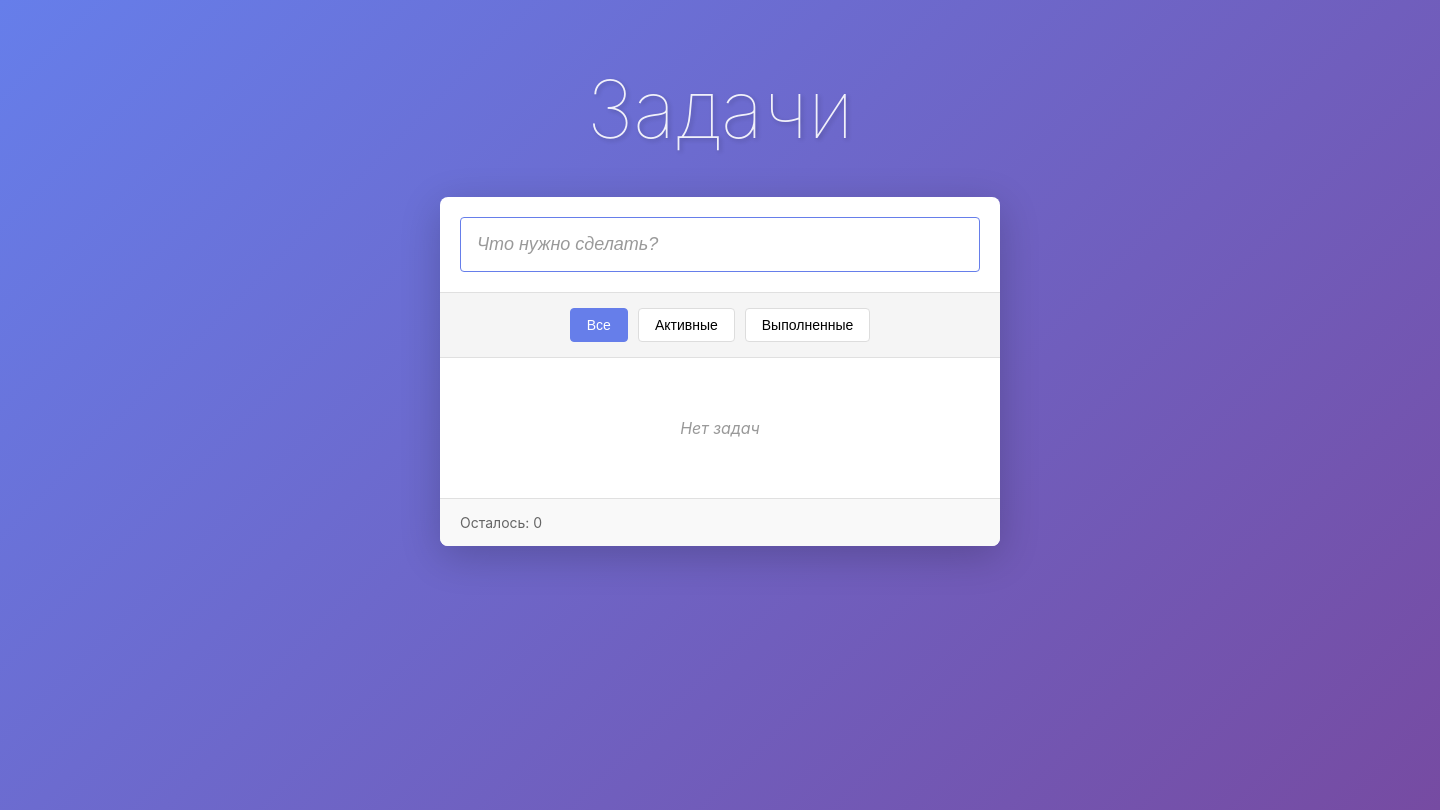
Test: Тесты приложения › фильтрует задачи по статусу
In the field with placeholder "Что нужно сделать?": x=720, y=244 [460,217,980,272], type "Активная задача"
Press Enter in the field with placeholder "Что нужно сделать?", box [460,217,980,272]
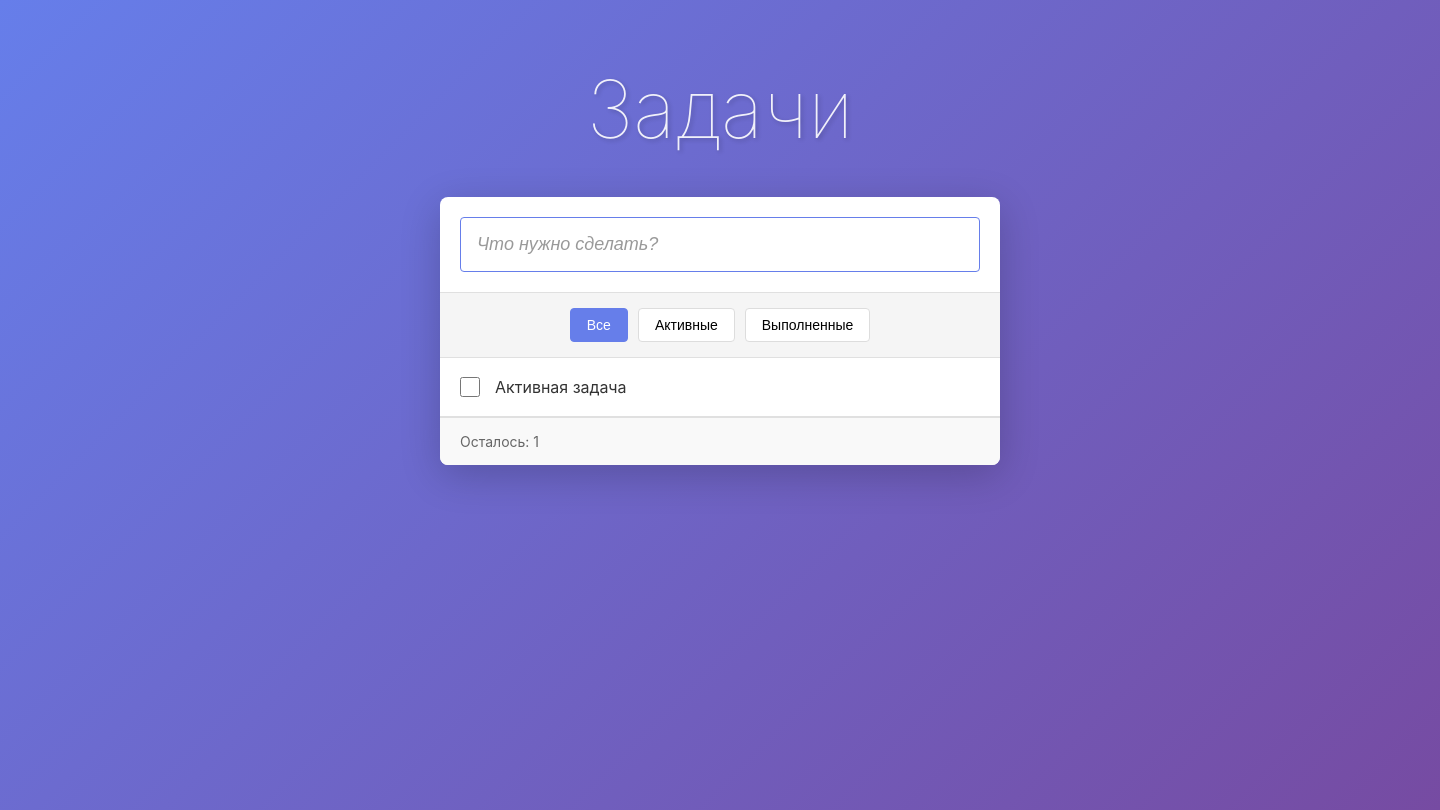
In the field with placeholder "Что нужно сделать?": x=720, y=244 [460,217,980,272], type "Выполненная задача"
Press Enter in the field with placeholder "Что нужно сделать?", box [460,217,980,272]
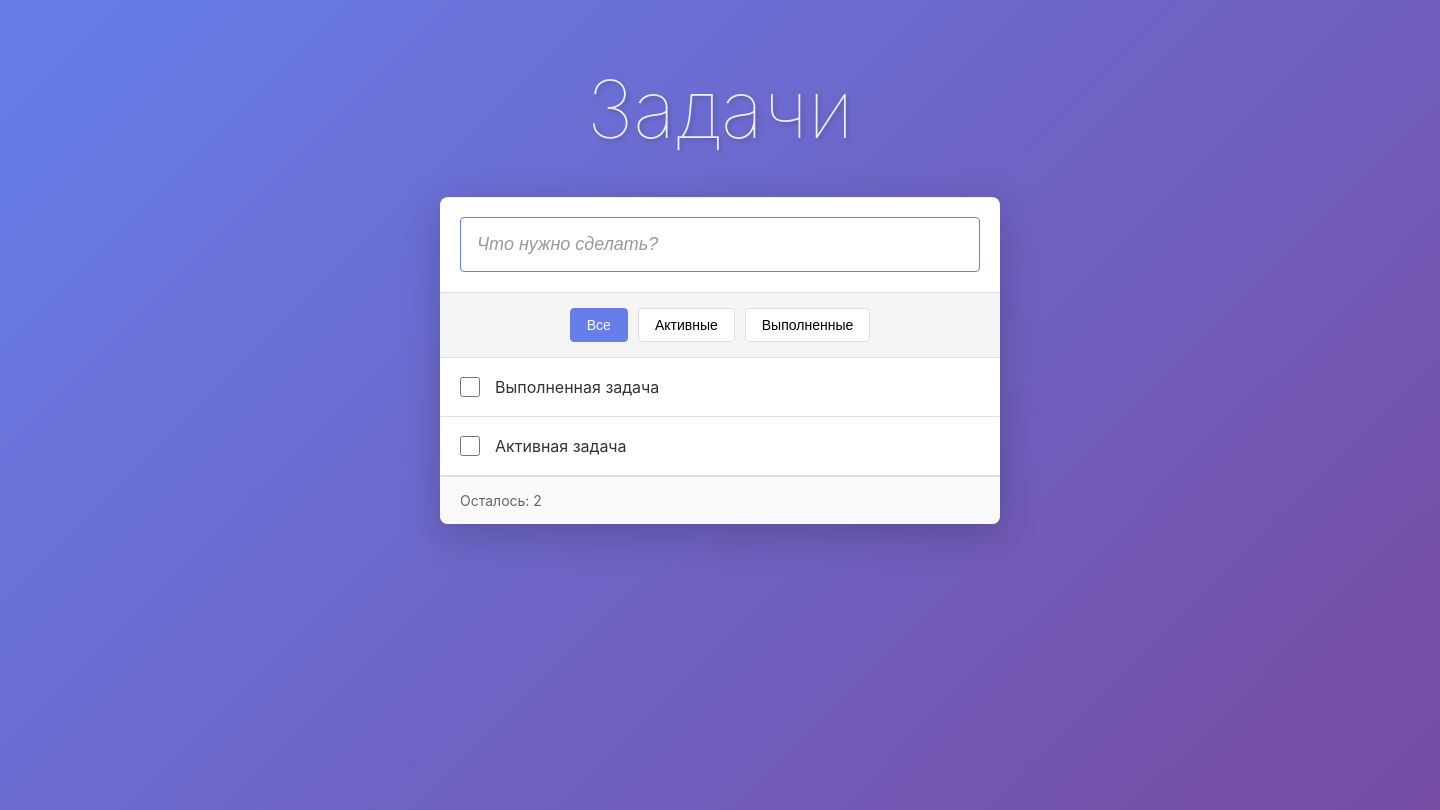
Click the checkbox next to "Выполненная задача": x=470, y=387 [460,377,480,397]
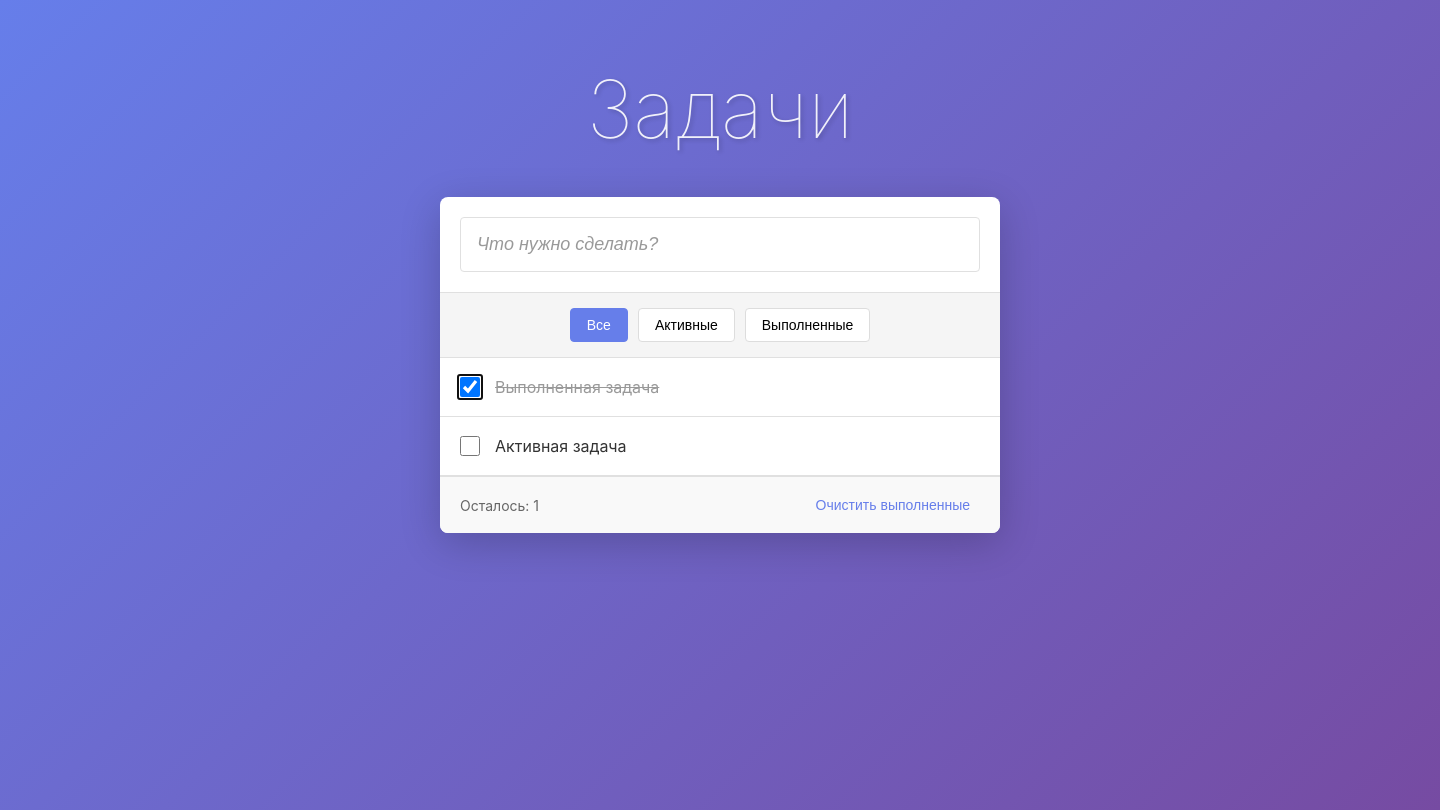
Click the button "Активные": x=686, y=325 [638,308,735,342]
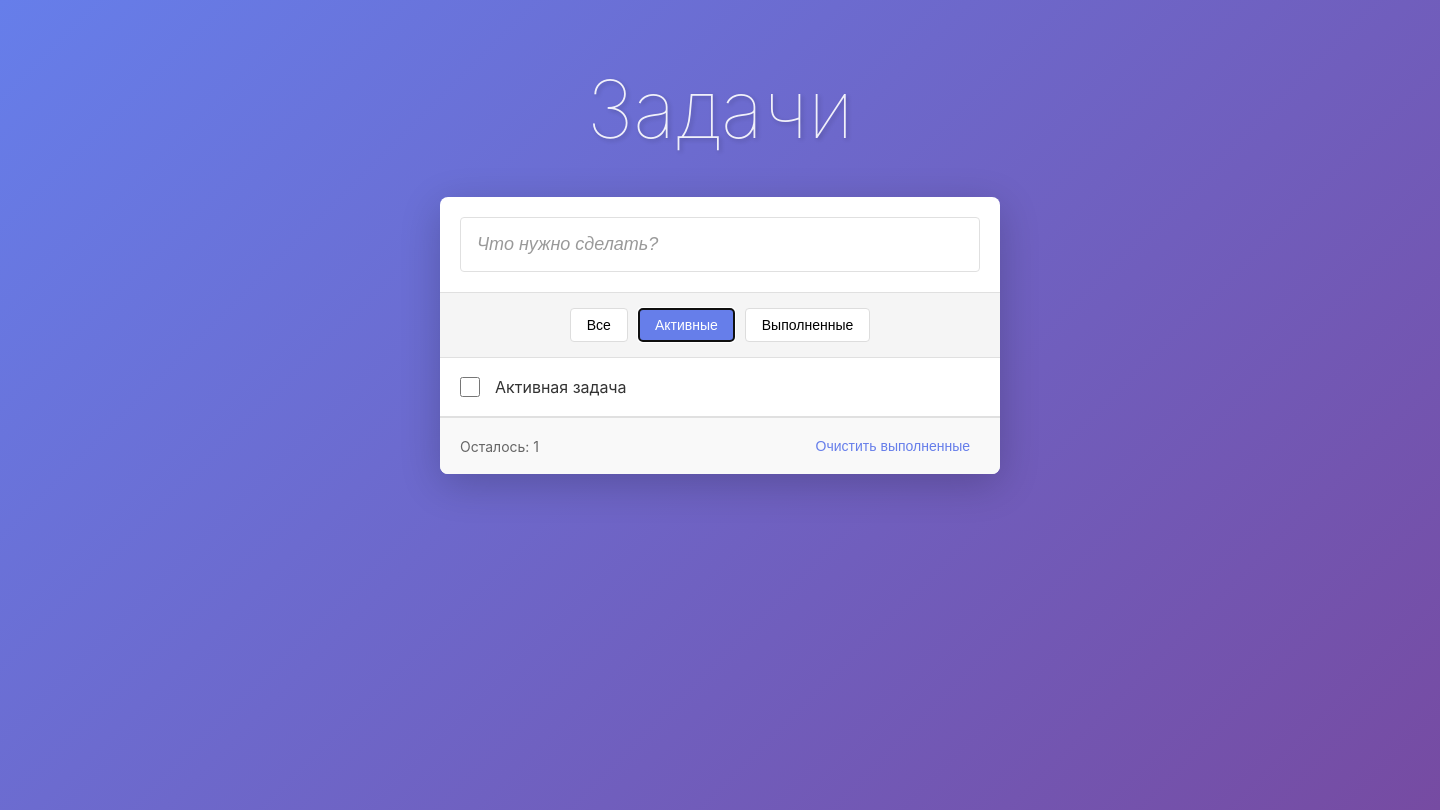
Result: the text "Активная задача" is shown at [495,377,627,397]
Result: the text "Выполненная задача" is gone
Click the button "Выполненные": x=808, y=325 [745,308,870,342]
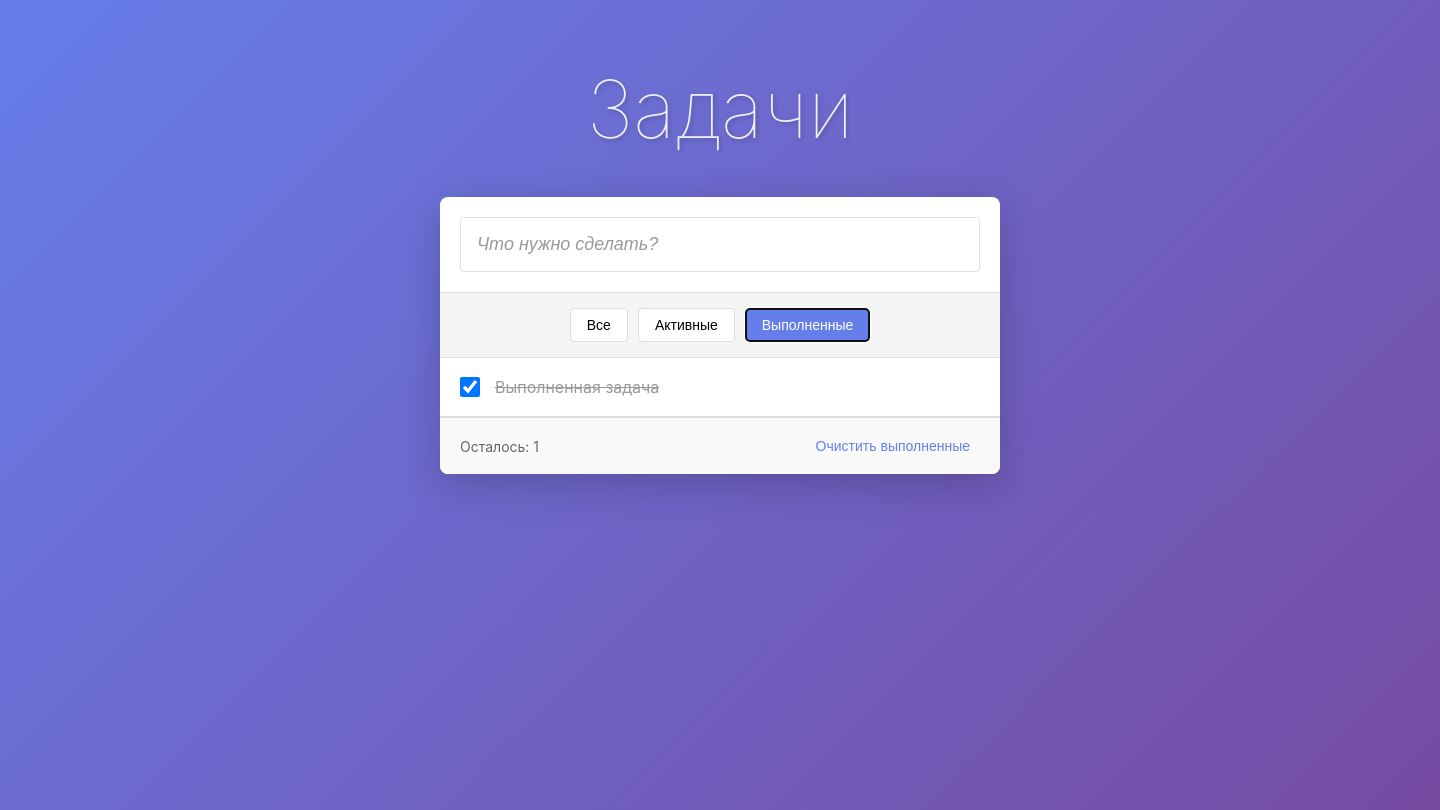
Result: the text "Активная задача" is gone
Result: the text "Выполненная задача" is shown at [495,377,659,397]
Click the button "Все": x=599, y=325 [570,308,628,342]
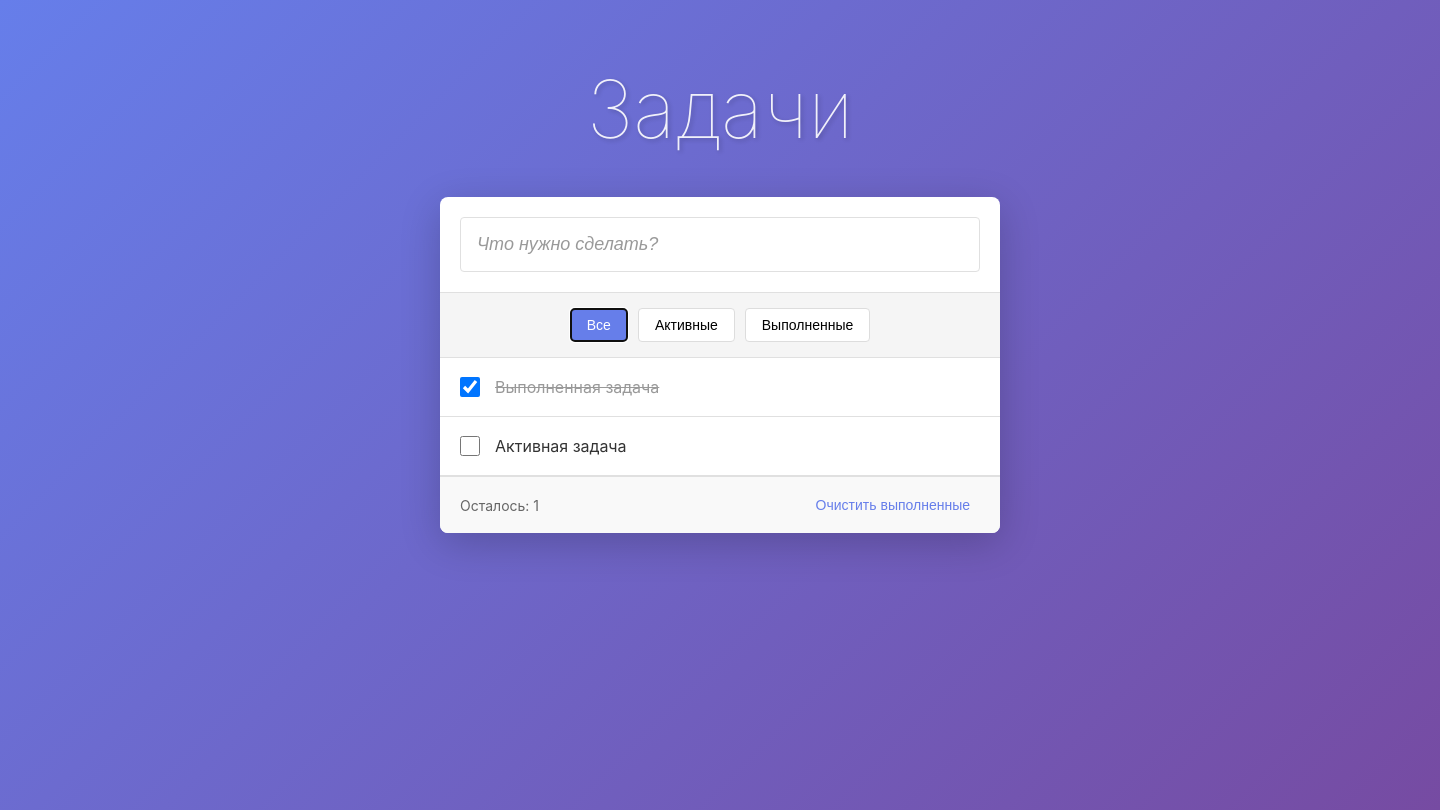
Result: the text "Выполненная задача" is shown at [495,377,659,397]
Result: the text "Активная задача" is shown at [495,436,627,456]
